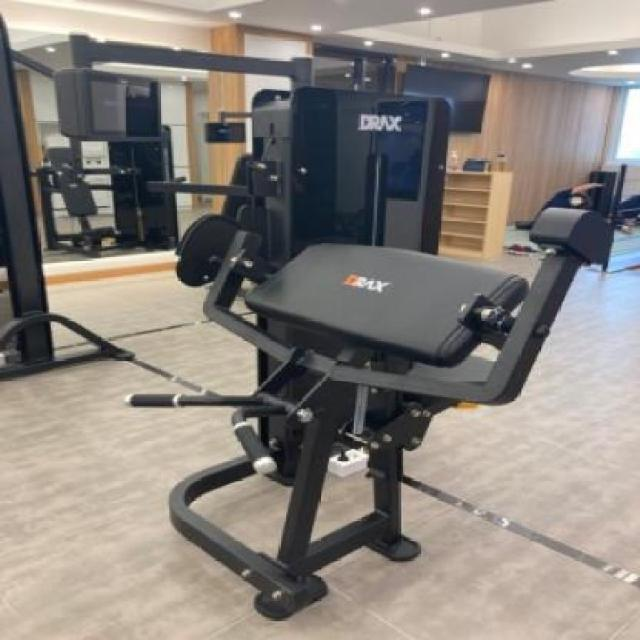arm curl machine: (130, 211, 618, 618)
